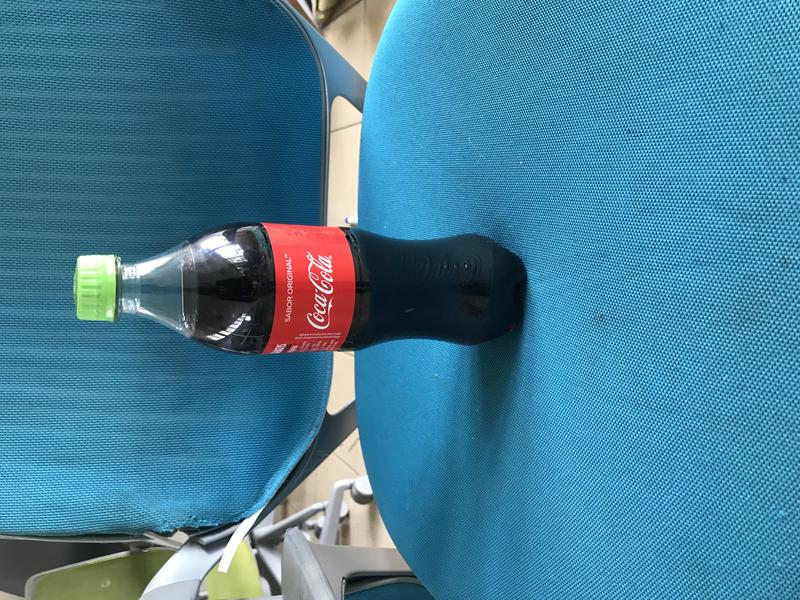coca_cola: (74, 220, 528, 356)
